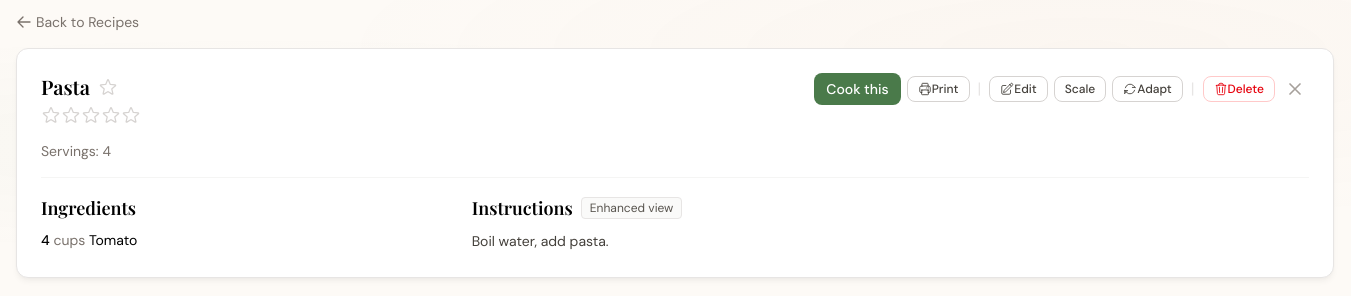
RecipeDetailPage › toggling favorite POSTs and invalidates the recipes cache
Click the button named "Add to favorites" at [108, 87], box [98,77,118,97]
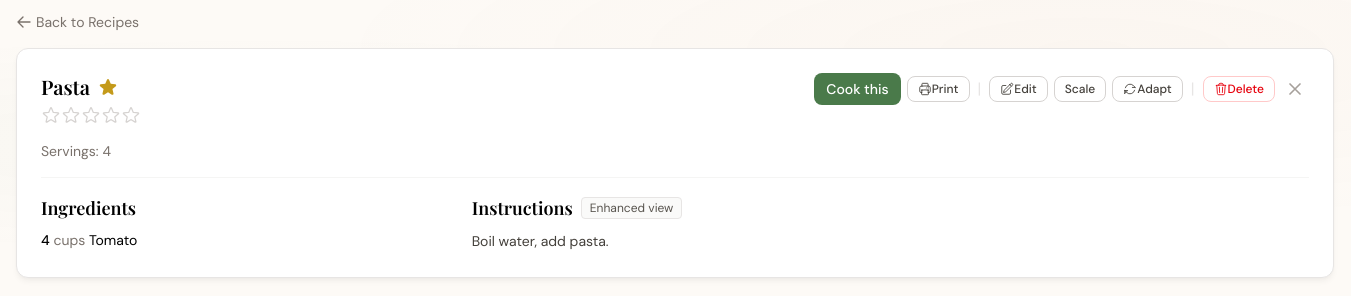
Result: the button named "Remove from favorites" is shown at [98,77,118,97]
